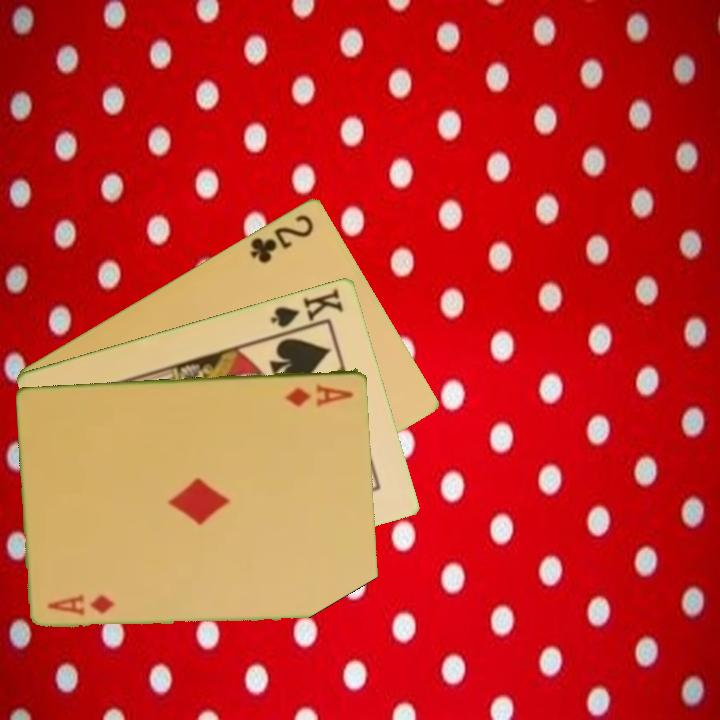2c: (246, 210, 317, 266)
Ad: (281, 380, 357, 409), (44, 591, 118, 618)
Ks: (267, 284, 347, 337)
